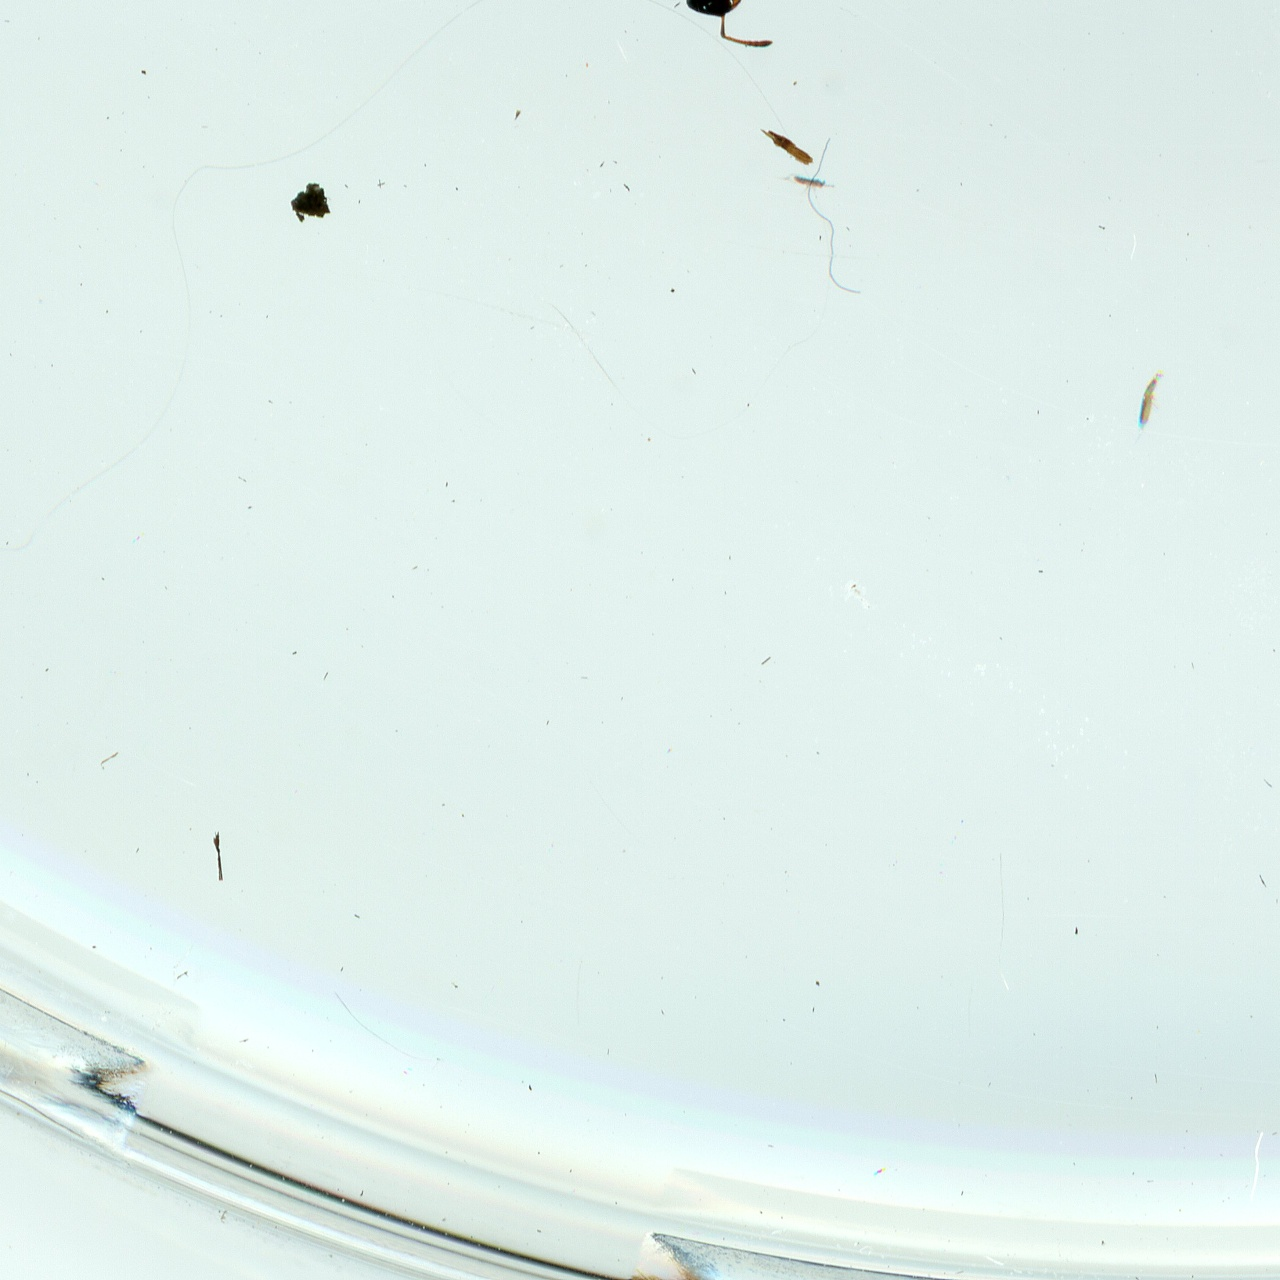arthropod: (603, 0, 810, 89), (1133, 368, 1166, 443), (791, 171, 835, 198)
